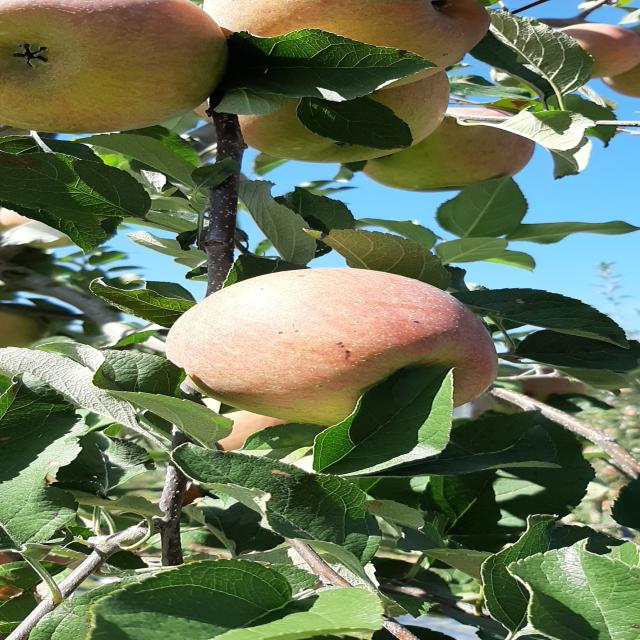fresh: (157, 260, 516, 427), (9, 1, 240, 149)
